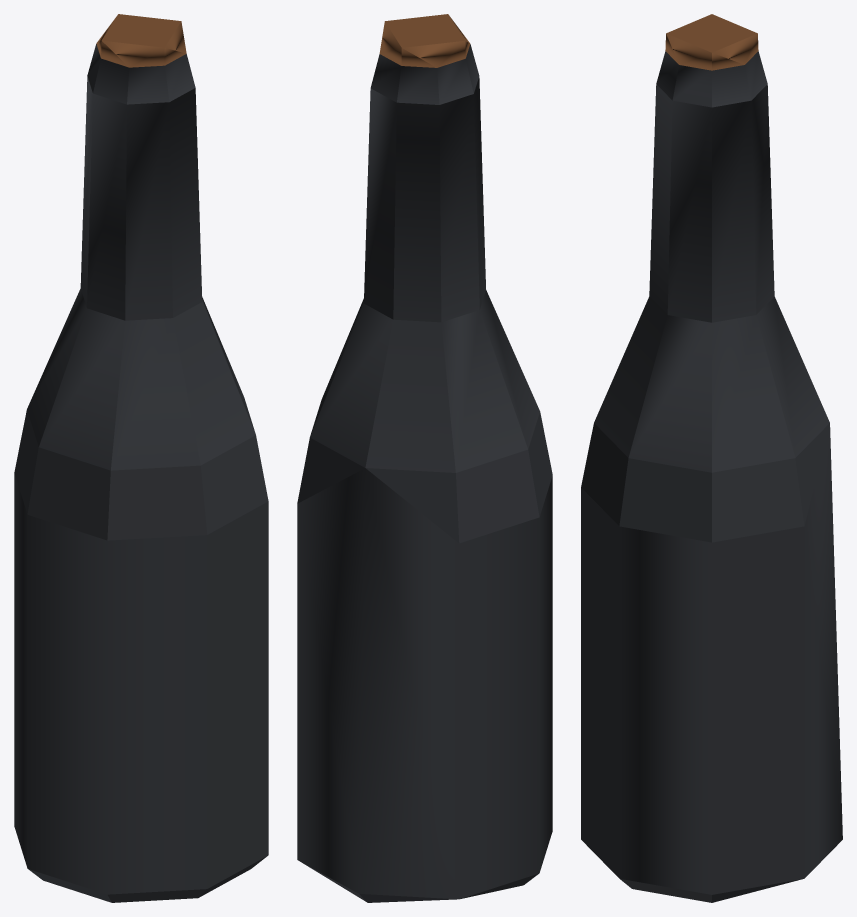
Rendered from cc0-bottle-lod1.glb.
3 renders of one model, left to right at view 1: azimuth 30°, elevation 25°; view 2: azimuth 150°, elevation 25°; view 3: azimuth 270°, elevation 25°, orthographic.
Parts seen in each view (by area): view 1: part_0; view 2: part_0; view 3: part_0.
Boxes of the visible parts, x1,y1,x2,y2 form: part_0: (14,14,268,902); part_0: (297,14,552,902); part_0: (581,14,842,902).
Bounding box in the file's own units: 0.4517 × 1.56 × 0.4517.
